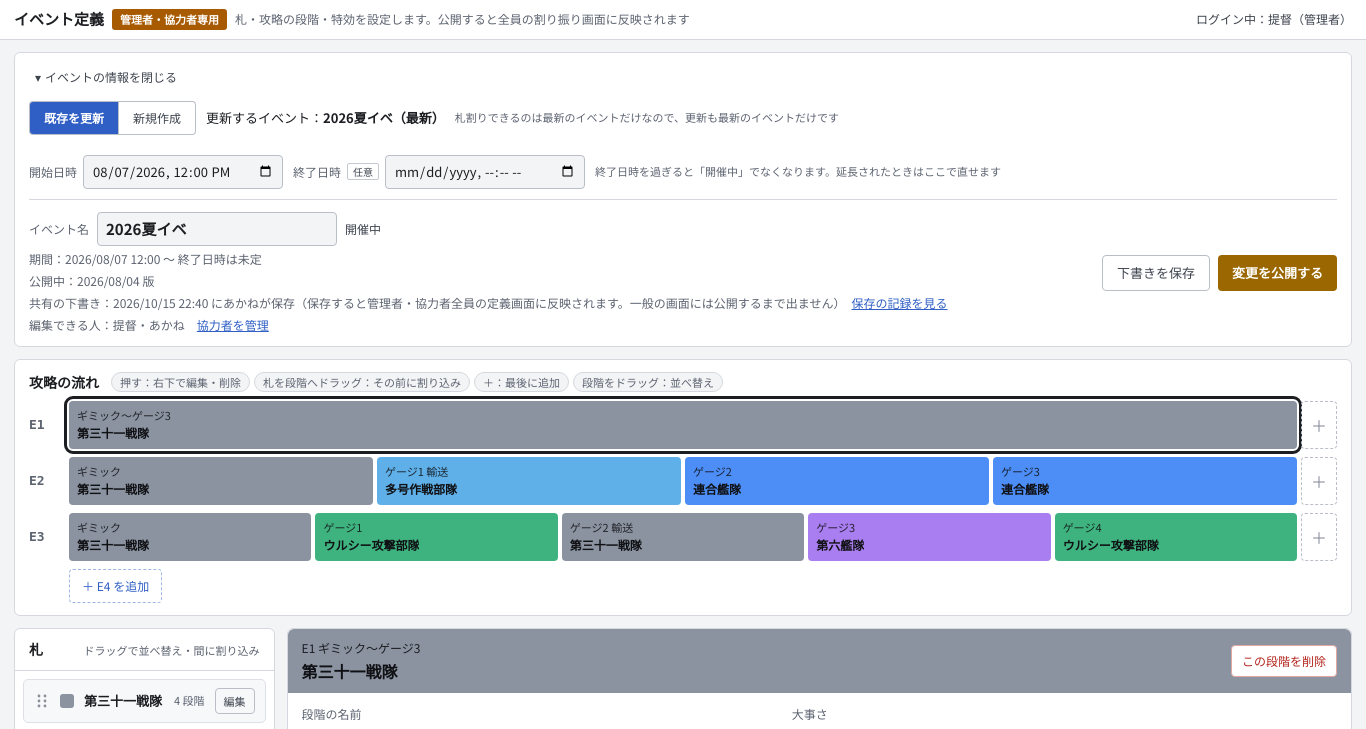
イベント定義のページ（/definition） › 艦船マスタを読めなければ、知らない艦名の警告を出さない（定義画面は使える）
The image size is (1366, 729).
Check: the element "攻略の流れ" is shown, box x1=14 y1=358 x2=1352 y2=616
Click the button "ゲージ3 連合艦隊" at (1020, 470), box x1=993 y1=456 x2=1297 y2=504
(page scrolled)
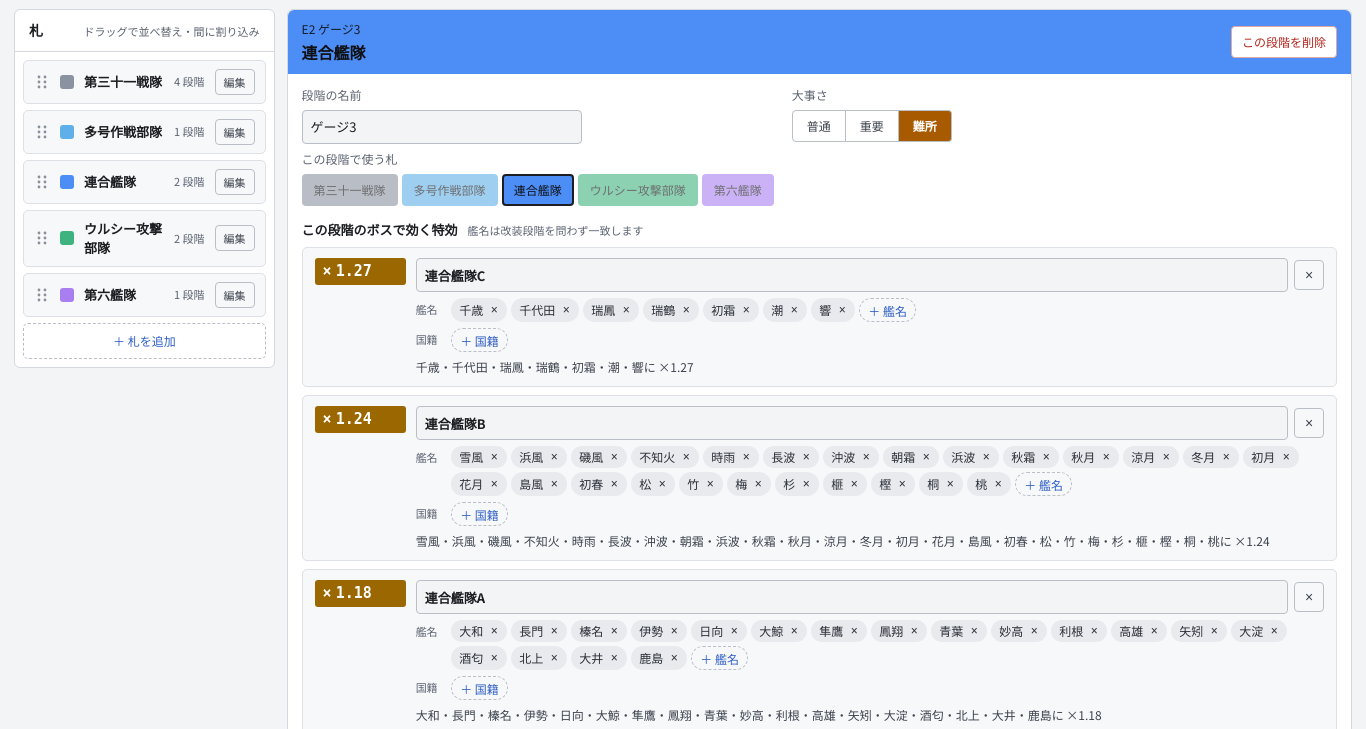
Check: the element named "特効グループ" is shown, box x1=302 y1=247 x2=1337 y2=387
